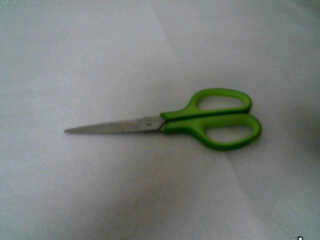003_classes: (52, 80, 270, 169)
